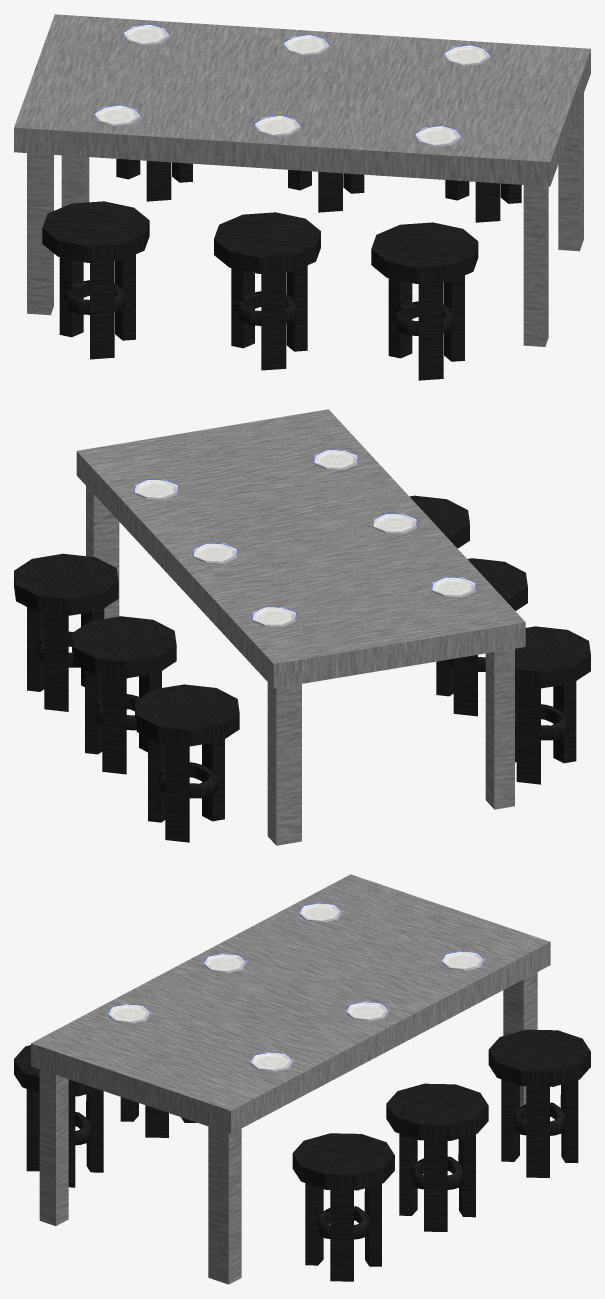
File: table.fbx
3 renders of one model, top to bottom at view 1: azimuth 30°, elevation 25°; view 2: azimuth 150°, elevation 25°; view 3: azimuth 270°, elevation 25°, orthographic. The views are drawn at different scales.
Parts seen in each view (by area): view 1: table3, chair10, chair9, chair8, chair5, chair7, chair6, pCube6, pCube8, pCube12, pCube10, pCube9 (+1 smaller); view 2: table3, chair7, chair6, chair5, chair8, chair9, chair10, pCube11, pCube6, pCube12, pCube9, pCube8 (+1 smaller); view 3: table3, chair7, chair5, chair6, chair10, chair9, pCube8, pCube11, pCube9, pCube6, pCube10, pCube12.
Part boxes in pixels (x1,y1,x2,y2): table3: [14, 14, 590, 346]; chair10: [371, 222, 478, 380]; chair9: [214, 212, 320, 370]; chair8: [42, 201, 149, 359]; chair5: [445, 180, 521, 222]; chair7: [116, 159, 192, 201]; chair6: [288, 170, 364, 212]; pCube6: [443, 45, 491, 65]; pCube8: [283, 34, 330, 55]; pCube12: [414, 125, 462, 146]; pCube10: [94, 105, 141, 126]; pCube9: [123, 24, 170, 45]; table3: [76, 409, 525, 845]; chair7: [135, 684, 239, 842]; chair6: [72, 616, 176, 774]; chair5: [14, 553, 118, 711]; chair8: [515, 626, 590, 784]; chair9: [436, 558, 527, 716]; chair10: [409, 495, 469, 548]; pCube11: [372, 513, 417, 533]; pCube6: [134, 479, 178, 499]; pCube12: [313, 449, 358, 469]; pCube9: [252, 606, 296, 626]; pCube8: [193, 543, 237, 563]; table3: [31, 874, 550, 1284]; chair7: [488, 1029, 590, 1177]; chair5: [292, 1133, 394, 1281]; chair6: [386, 1083, 488, 1231]; chair10: [14, 1045, 103, 1187]; chair9: [120, 1097, 196, 1137]; pCube8: [345, 1001, 389, 1020]; pCube11: [203, 953, 247, 972]; pCube9: [441, 951, 485, 970]; pCube6: [250, 1052, 293, 1071]; pCube10: [298, 902, 342, 922]; pCube12: [107, 1004, 151, 1023].
Bounding box in the file's own units: 5.06 × 1.77 × 5.11.
